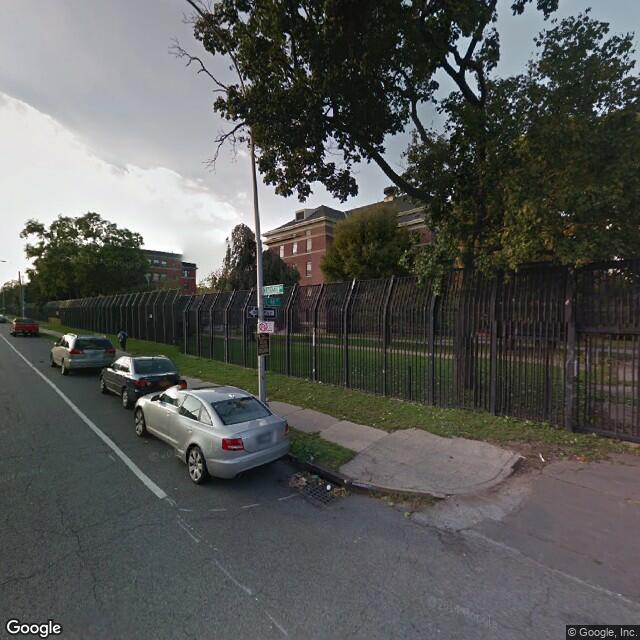litter: (536, 450, 546, 463), (296, 474, 309, 483), (324, 481, 335, 489)
